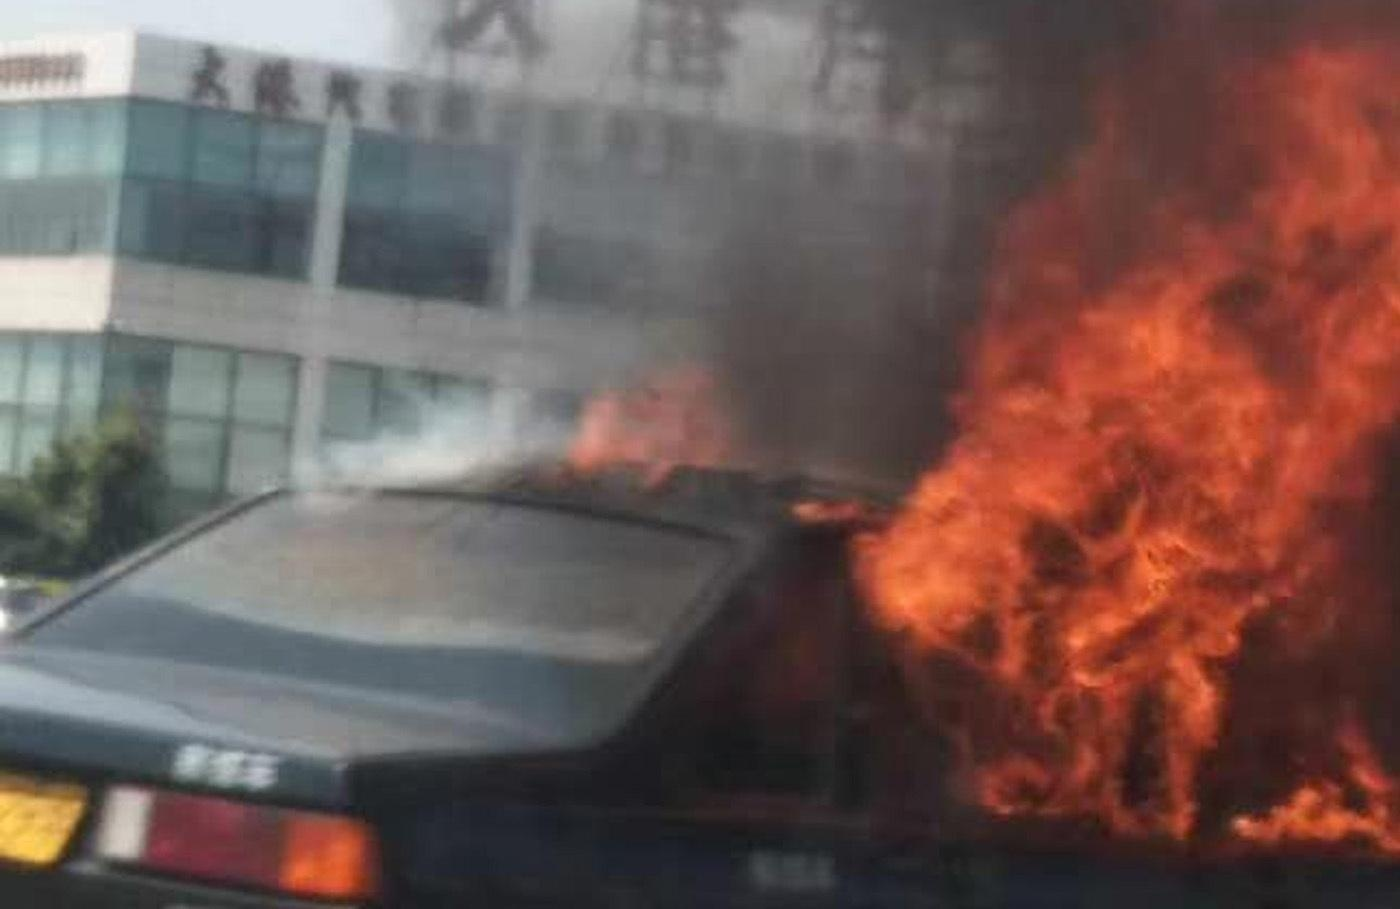fire: (839, 72, 1399, 856), (551, 357, 736, 495)
